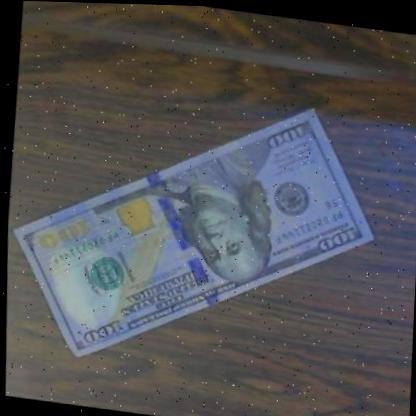dollar_front: (0, 73, 387, 394)
